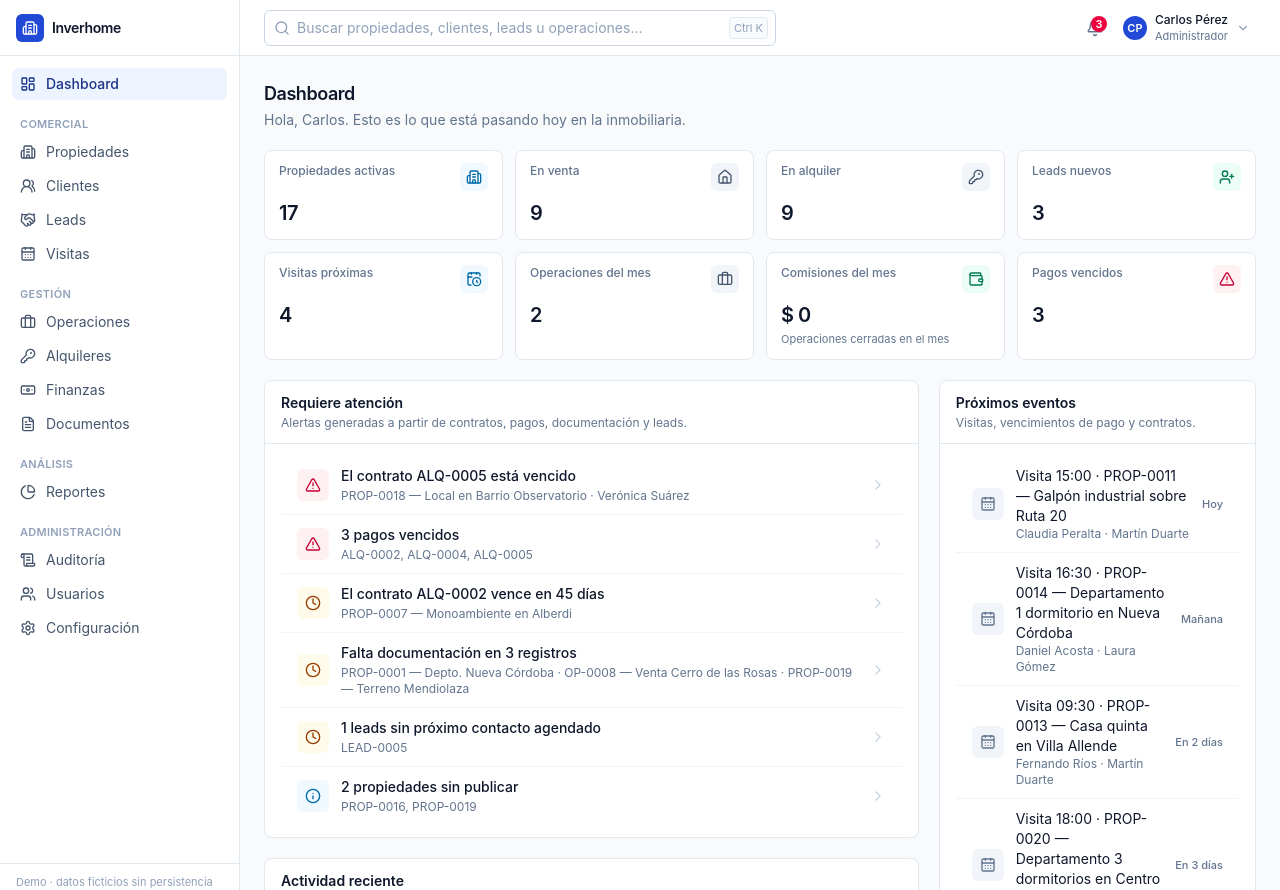
Scenario: Navegación › muestra acceso restringido al entrar por URL sin permiso
The width and height of the screenshot is (1280, 890).
Expected: the heading "Dashboard" is shown, [264,83,355,104]
Step 1. Click the button "Carlos Pérez" → click(1186, 28), box [1117,10,1256,46]
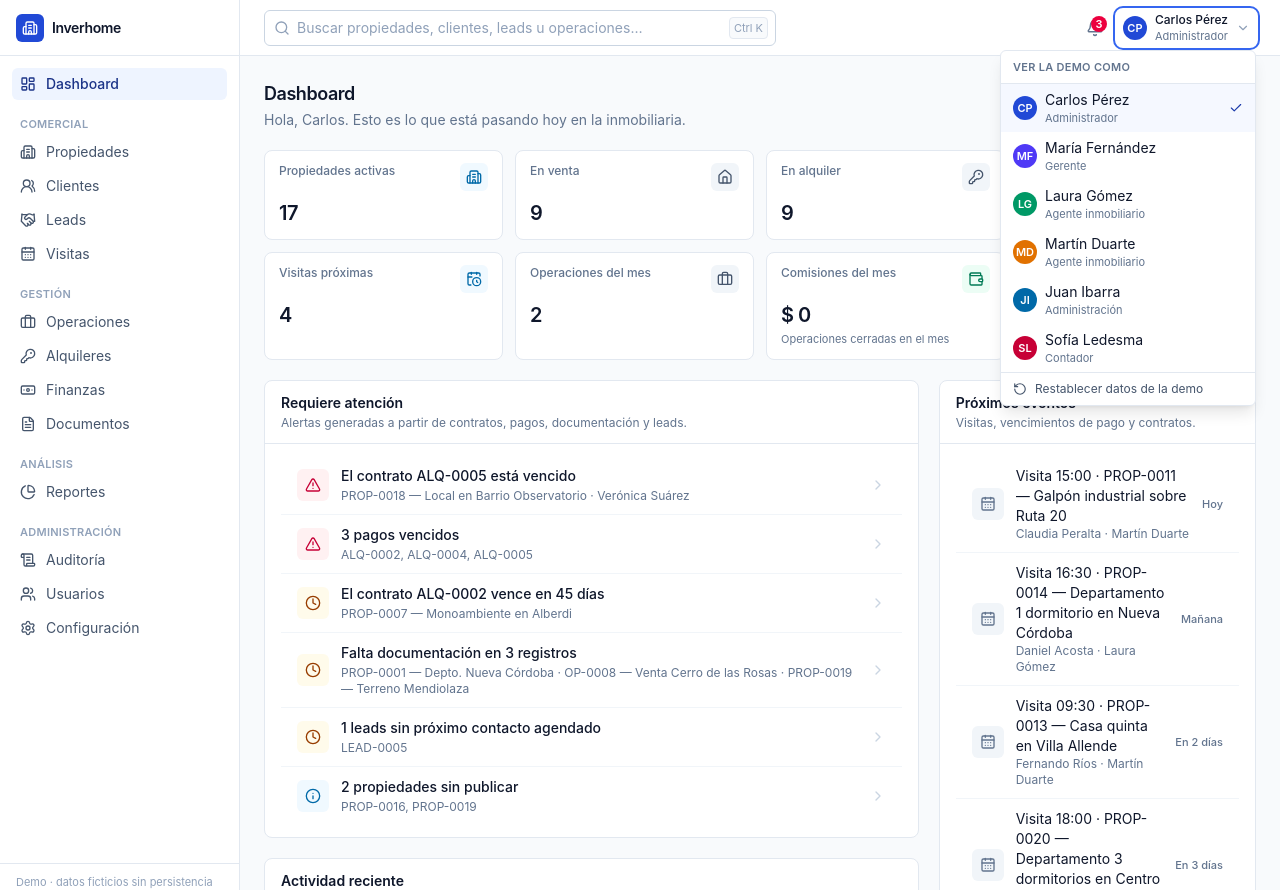
Step 2. Click the menu item "SL Sofía Ledesma Contador" → click(1128, 348), box [1001,324,1255,372]
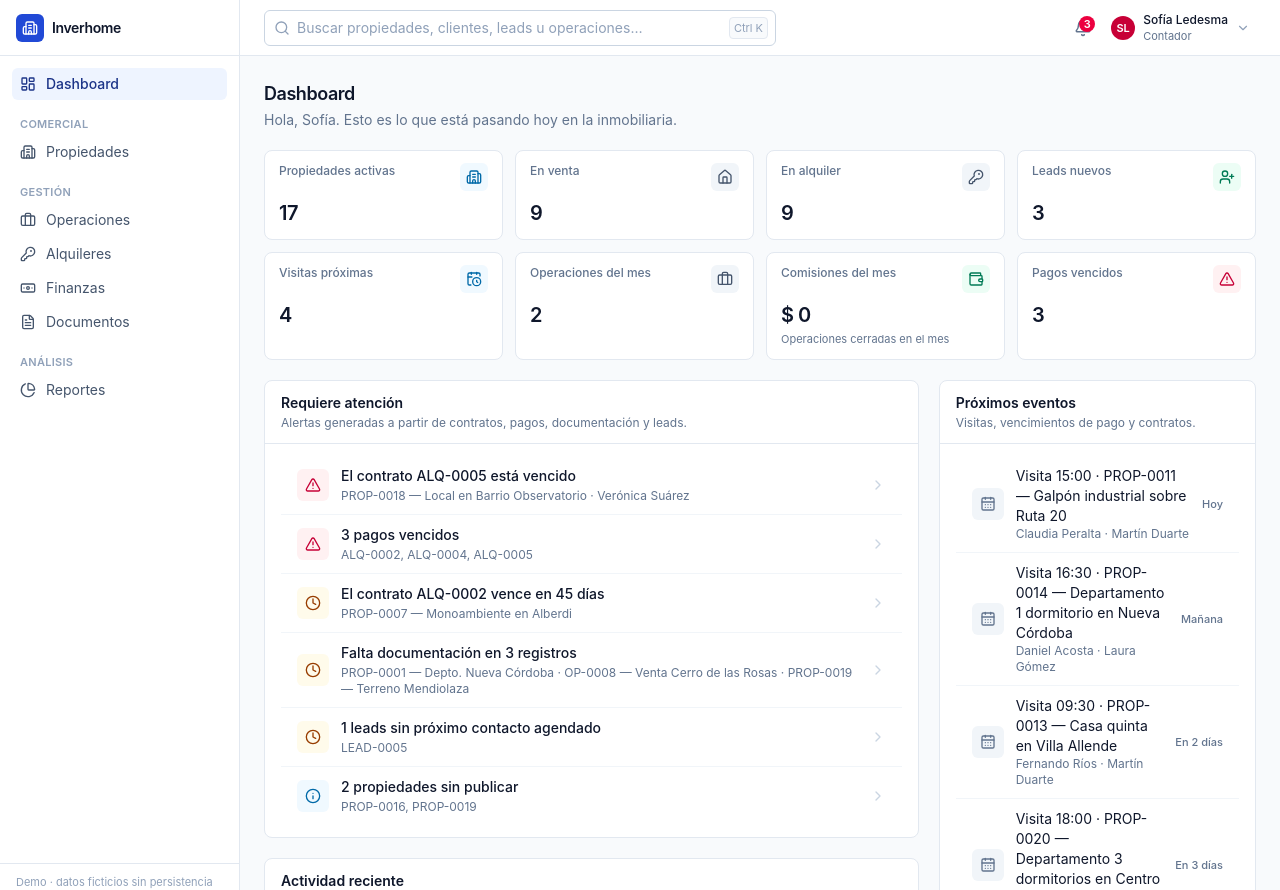
Expected: the heading "Dashboard" is shown, [264,83,355,104]
Step 3. Type "LEAD-0001" into the dropdown named "Búsqueda global" → (520, 28), box [264,10,776,46]
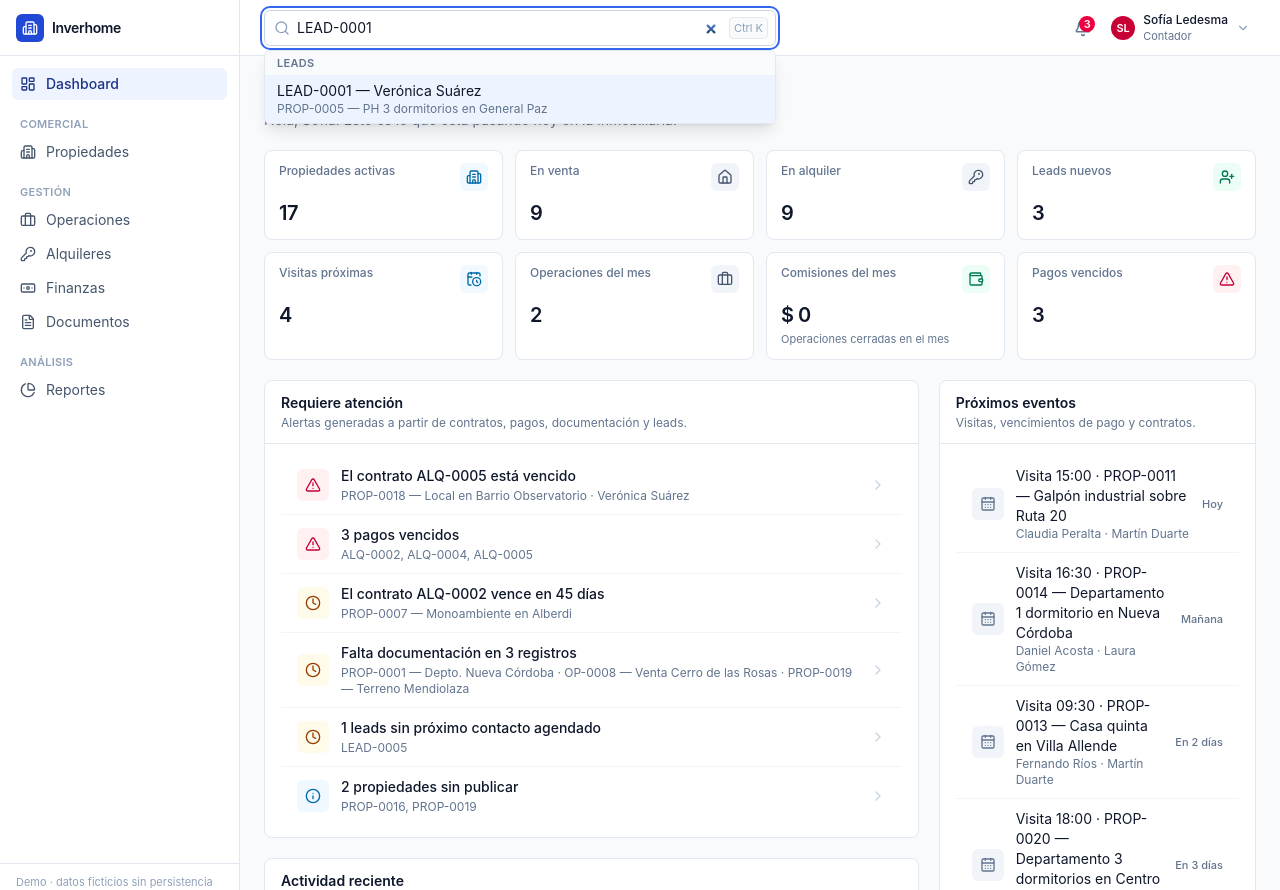
Step 4. Click the option "LEAD-0001" → click(520, 98), box [265,74,775,122]
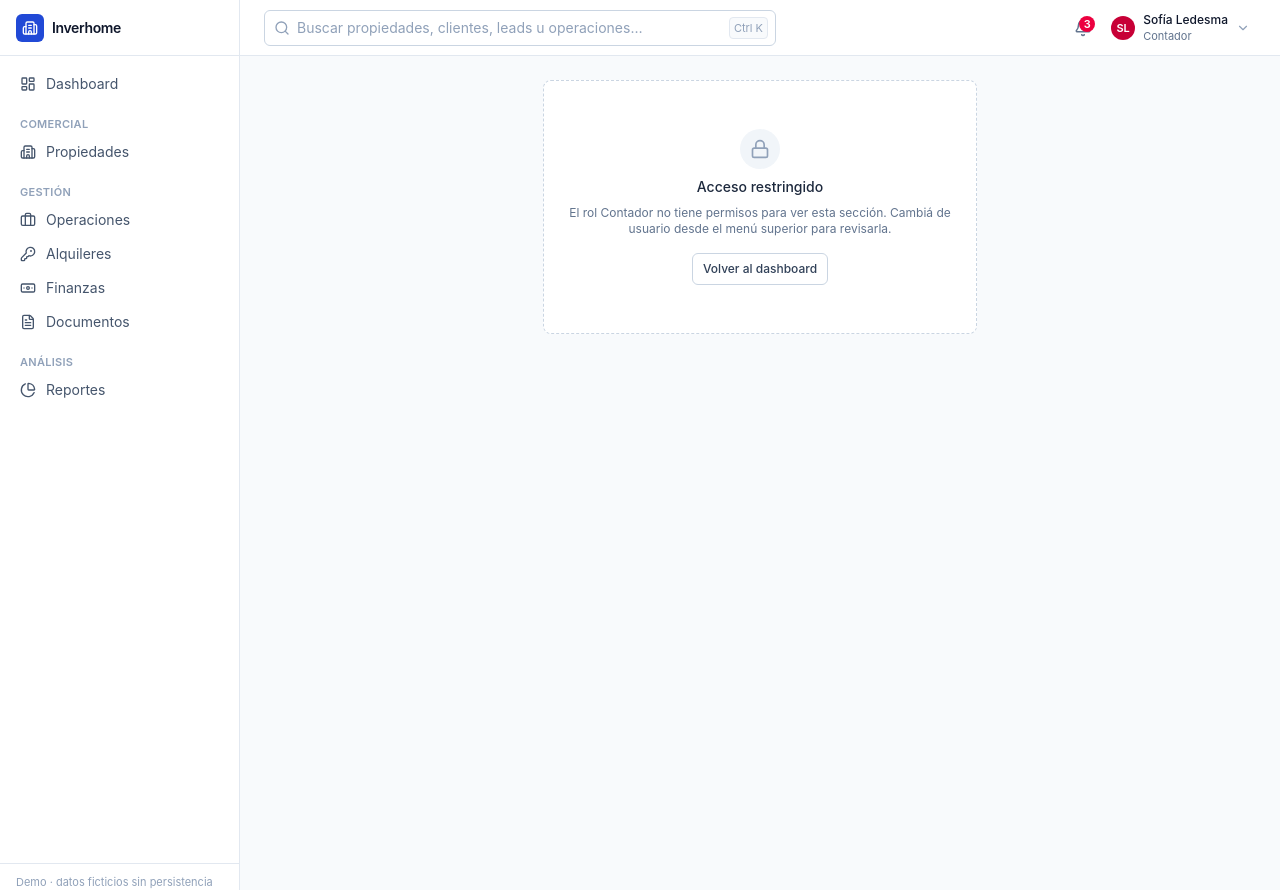
Result: the text "Acceso restringido" is shown at [697,177,823,197]
